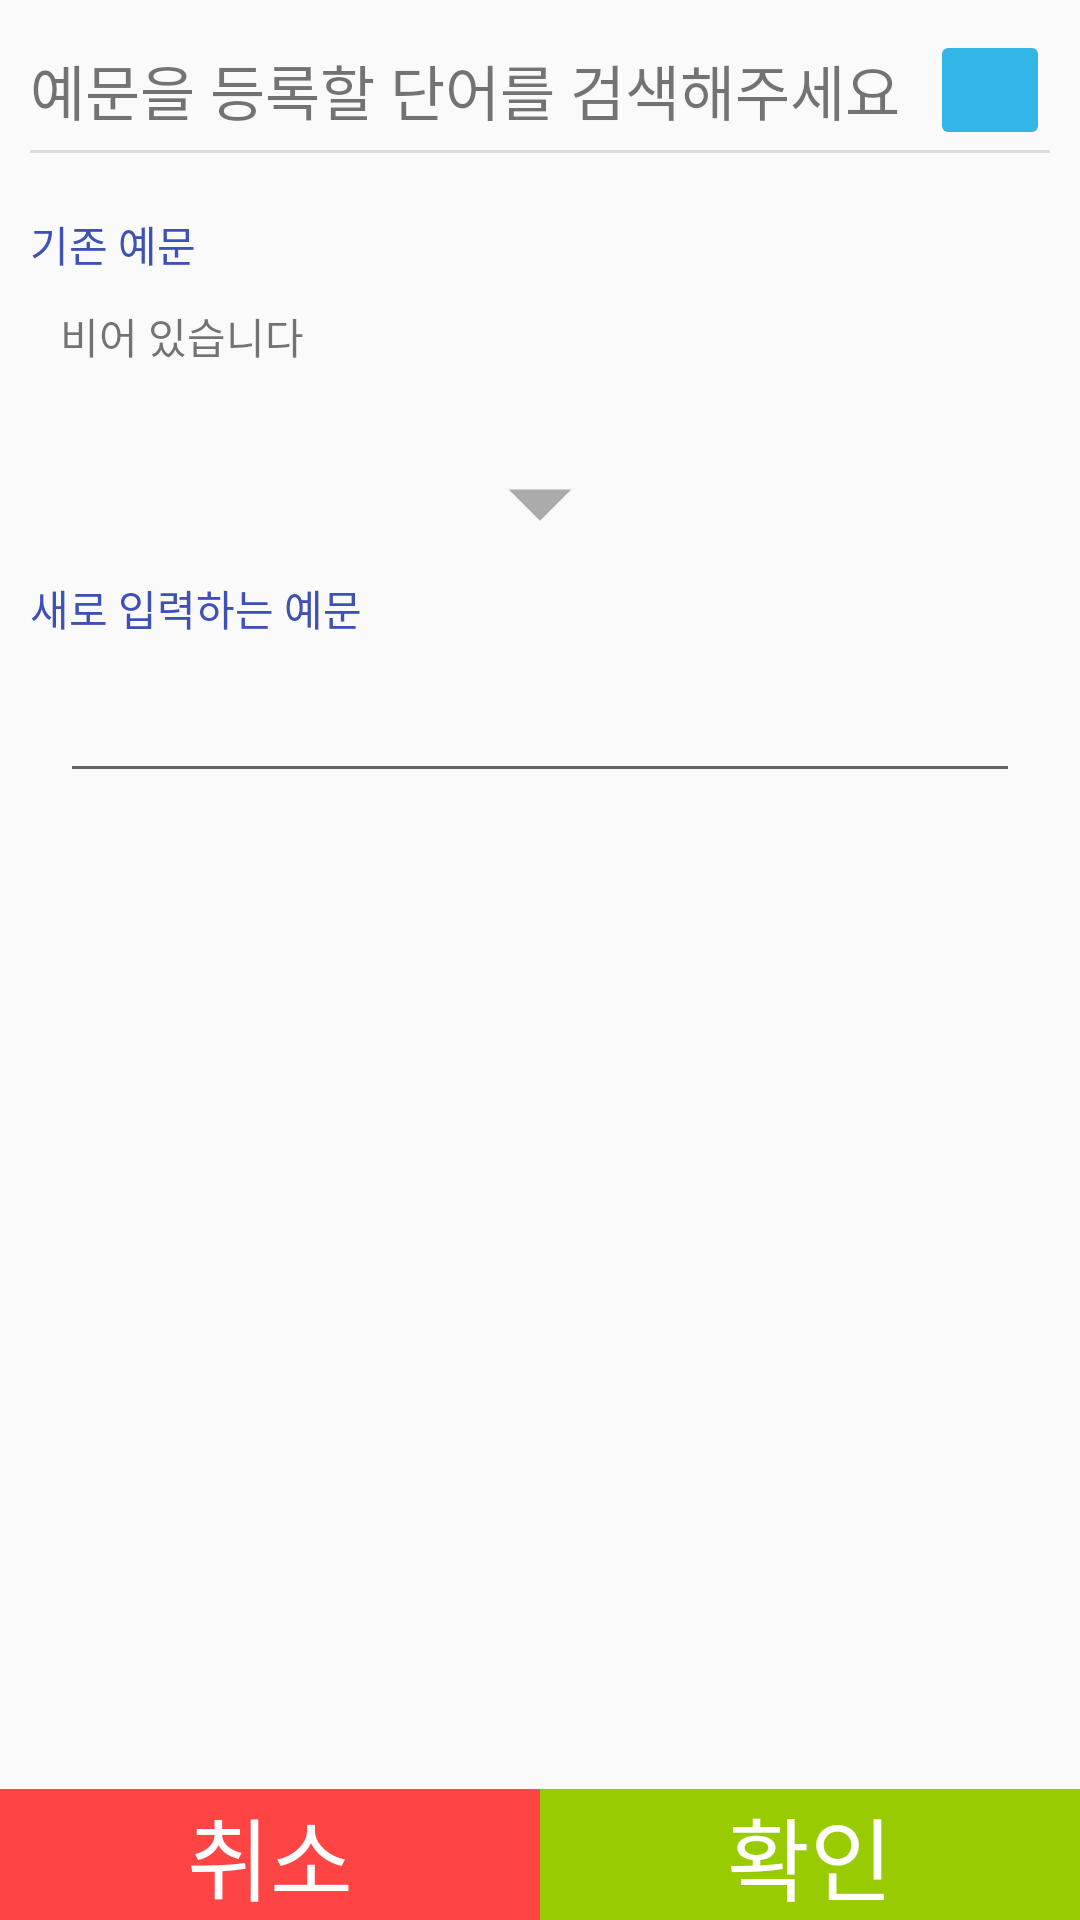

Named icons in this screenshot (1080px×1920px) and their centers, (x=x, y=y):
arrow drop down: (x=540, y=504)
